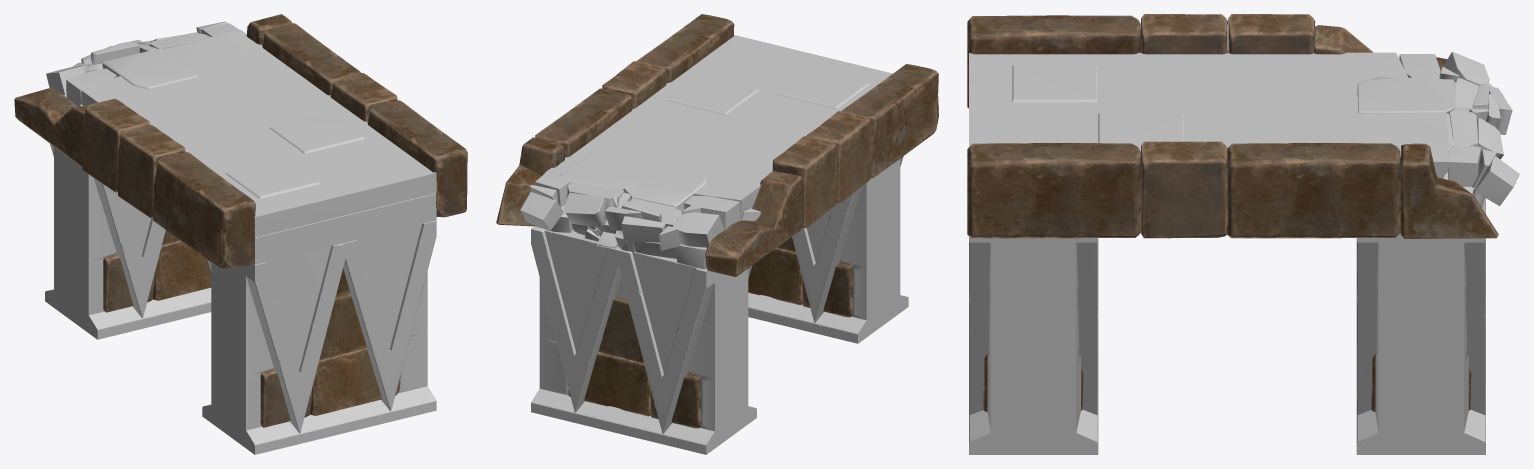
3 views of the same model, side by side, from view 1: azimuth 30°, elevation 25°; view 2: azimuth 150°, elevation 25°; view 3: azimuth 270°, elevation 25° (orthographic). The views are drawn at different scales.
Visible parts, largest first — view 1: SM_DK_Bridge_8m_01v2_LOD0; view 2: SM_DK_Bridge_8m_01v2_LOD0; view 3: SM_DK_Bridge_8m_01v2_LOD0.
Boxes of the visible parts, <box> form: SM_DK_Bridge_8m_01v2_LOD0: <box>14,14,467,454</box>; SM_DK_Bridge_8m_01v2_LOD0: <box>496,14,938,454</box>; SM_DK_Bridge_8m_01v2_LOD0: <box>967,14,1519,454</box>.
Bounding box in the file's own units: 5.47 × 5.36 × 8.54.
